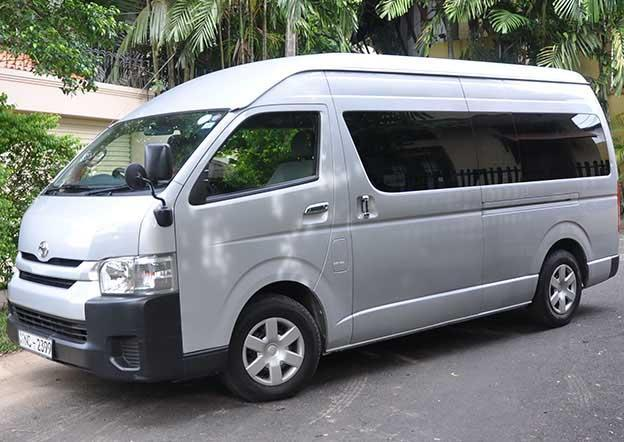car: (6, 49, 624, 398)
